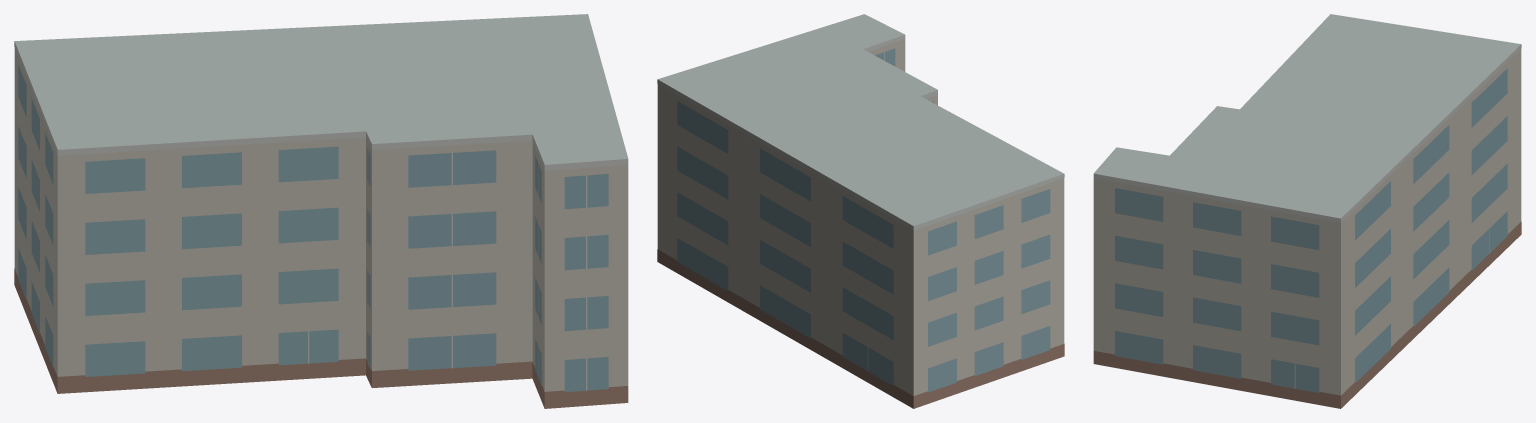
The model's file is survey-upis-32675632.glb.
The picture shows the model from 3 angles, left to right: view 1: azimuth 30°, elevation 25°; view 2: azimuth 150°, elevation 25°; view 3: azimuth 270°, elevation 25°; orthographic projection. The views are drawn at different scales.
Visible parts, largest first — view 1: survey-upis-32675632.tmp; view 2: survey-upis-32675632.tmp; view 3: survey-upis-32675632.tmp.
Part boxes in pixels (x1,y1,x2,y2): survey-upis-32675632.tmp: [14, 14, 628, 408]; survey-upis-32675632.tmp: [657, 14, 1064, 408]; survey-upis-32675632.tmp: [1093, 14, 1521, 408].
Bounding box in the file's own units: 23.51 × 10.2 × 20.79.
